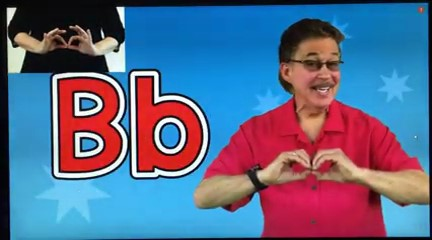B: (269, 143, 361, 188), (40, 21, 95, 58)
